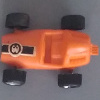naranja: (2, 15, 96, 87)
